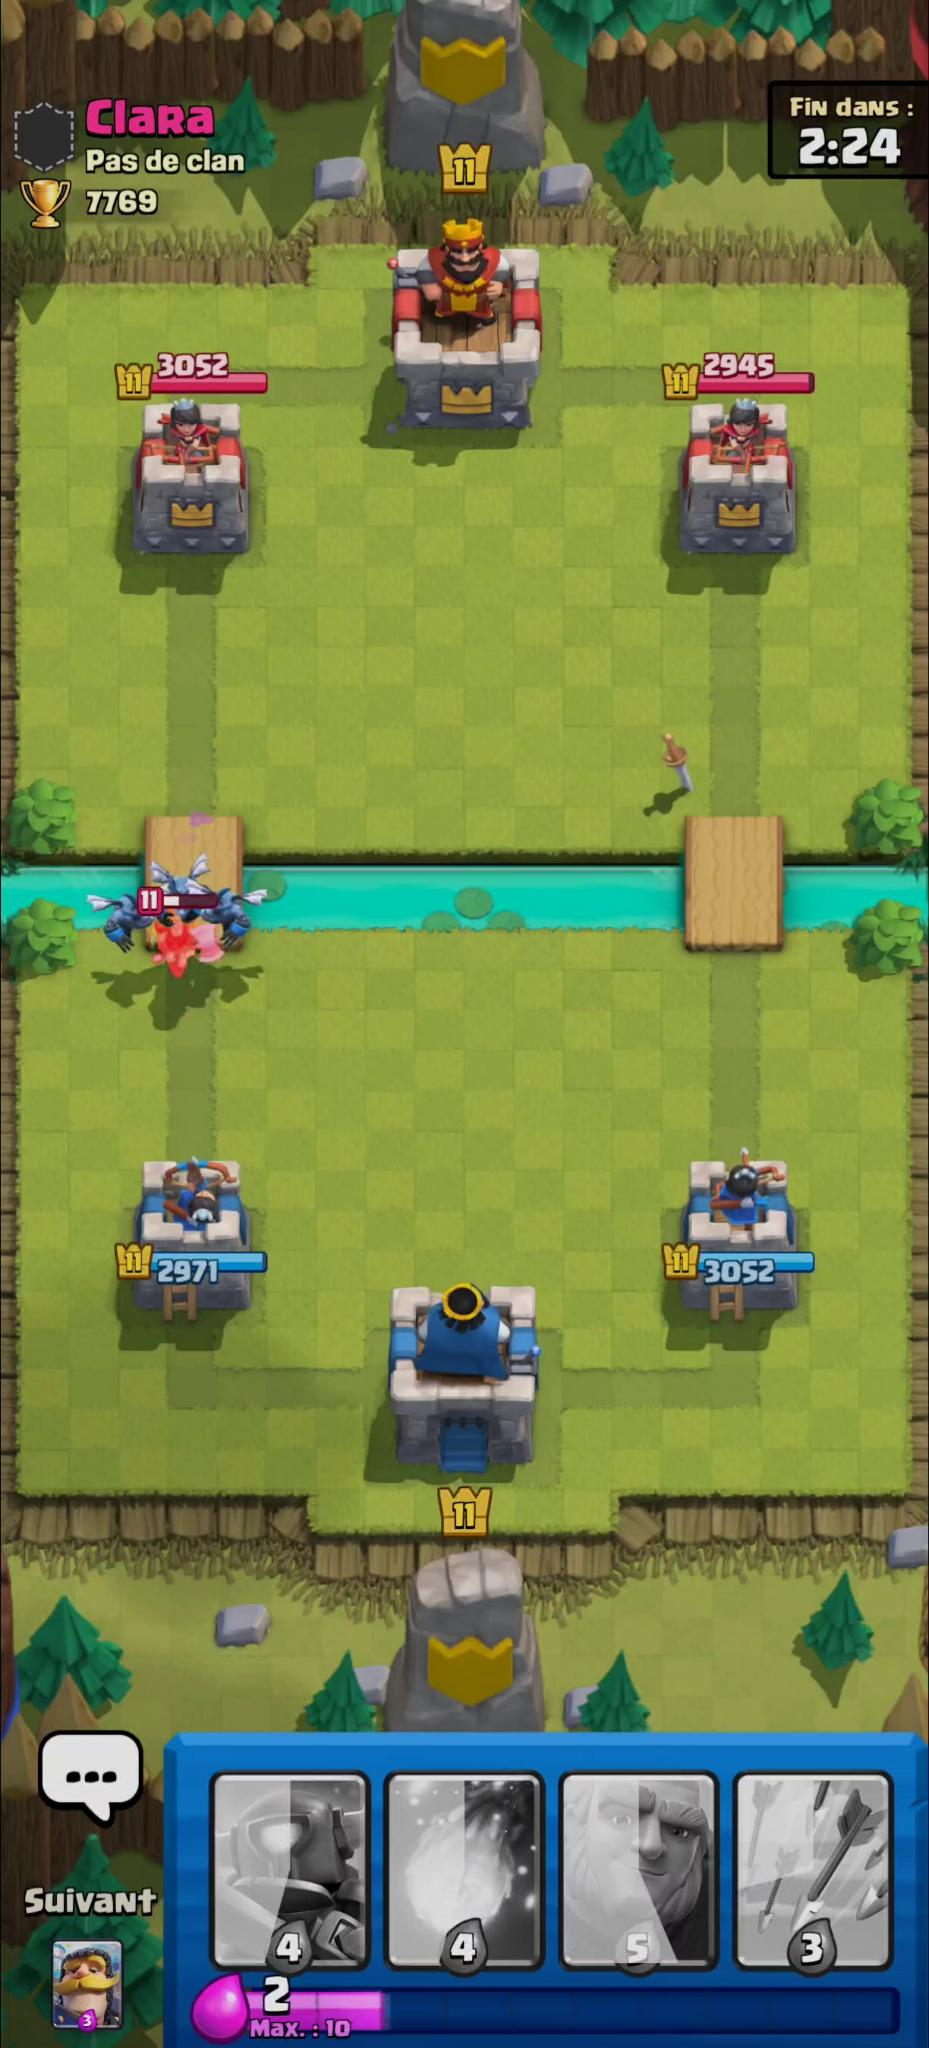gargouille: (80, 892, 174, 952), (188, 879, 267, 946), (150, 852, 208, 926)
valkyrie: (146, 914, 225, 984)
